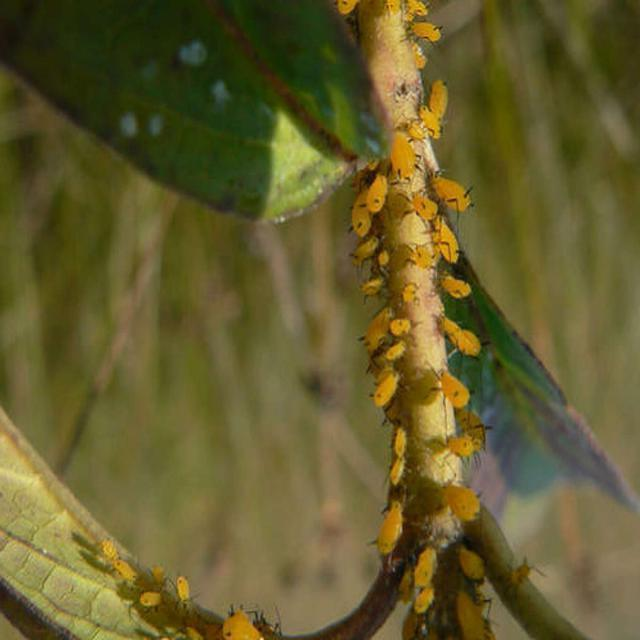aphid: (351, 486, 414, 569), (419, 482, 493, 537), (435, 306, 494, 370), (357, 369, 416, 432), (416, 215, 476, 265), (431, 372, 486, 421), (380, 122, 421, 182), (355, 168, 402, 215), (432, 427, 488, 461), (434, 270, 480, 308), (432, 175, 474, 214), (456, 589, 491, 635), (363, 309, 392, 350), (349, 235, 380, 271), (363, 342, 390, 380), (383, 479, 407, 521), (458, 546, 486, 581), (427, 78, 447, 122), (350, 203, 372, 238), (418, 106, 441, 138), (412, 194, 438, 222), (409, 244, 434, 271), (410, 22, 442, 42), (359, 276, 384, 297), (384, 341, 405, 362), (388, 317, 409, 337), (139, 591, 162, 608), (401, 282, 418, 304)
